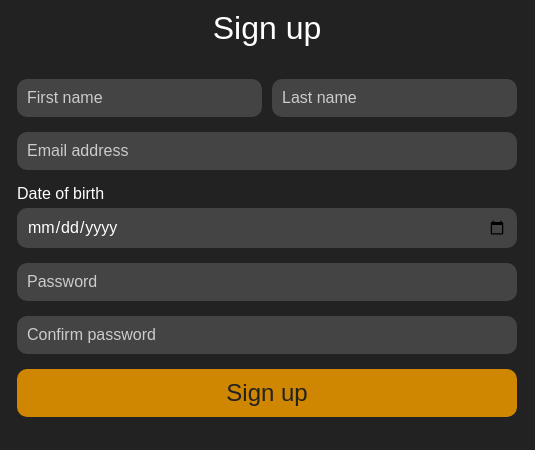
Test case: Sign up form › Validation › Email address › displays a warning and disables the sign up button if the email address invalid
The width and height of the screenshot is (535, 450).
Type "invalid email address" into the field with placeholder "Email address".
click(267, 151); type("invalid email address")  # box [17,132,517,170]
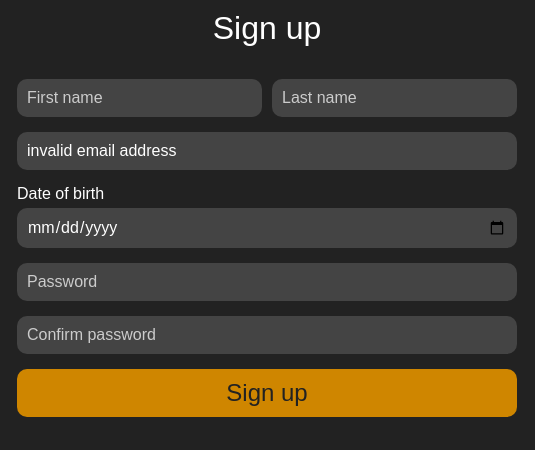
Leave the field with placeholder "Email address", box [17,132,517,170]
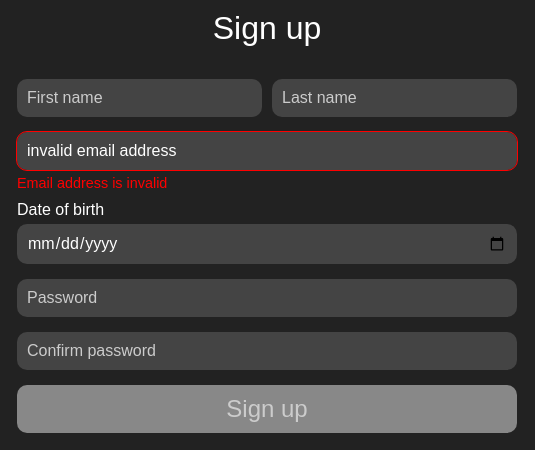
Expected: the text "Email address is invalid" is shown, [17,175,167,191]
Expected: the button is disabled, [17,385,517,433]
